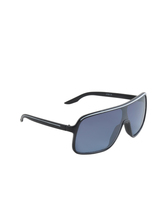glasses: (19, 87, 152, 160)
